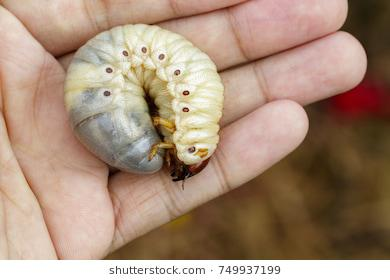grub: (62, 22, 224, 185)
